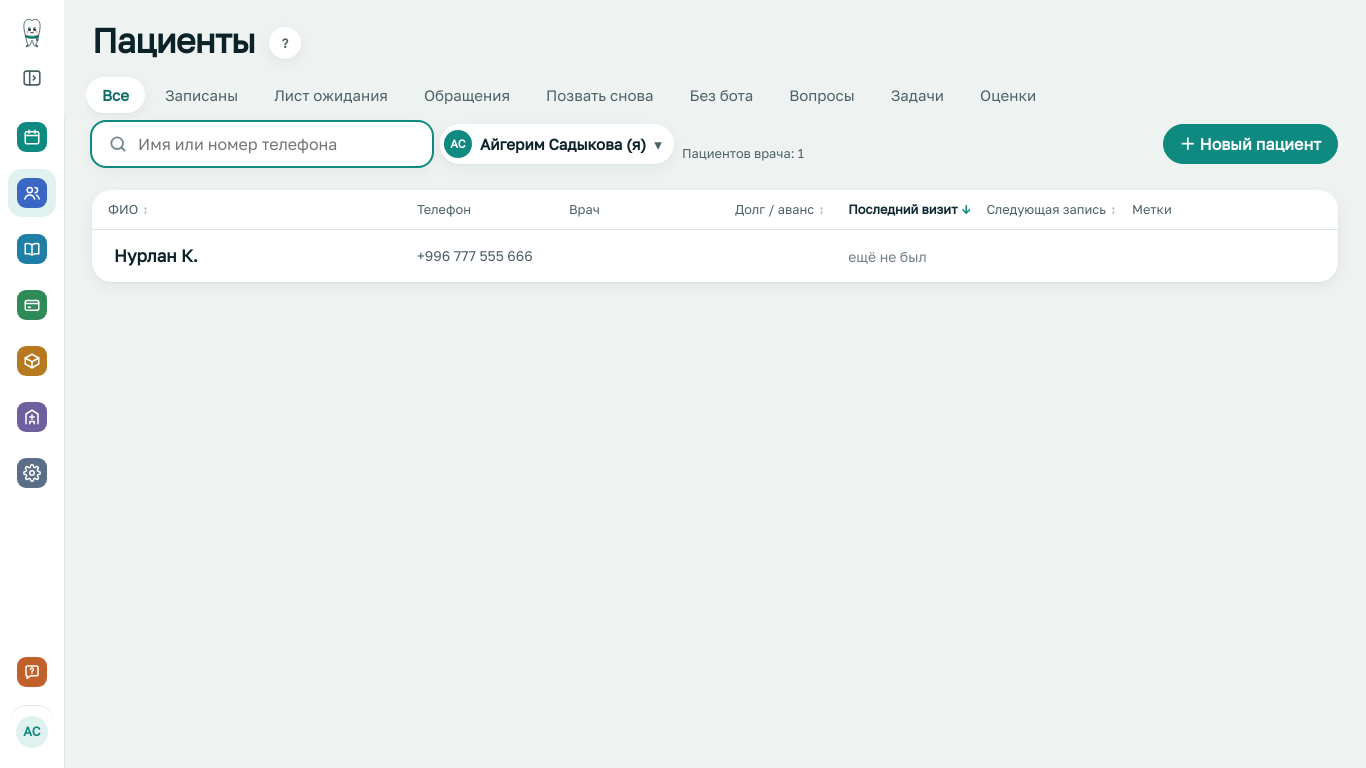
Scenario: новый пациент: одно пустое состояние «Ещё не был в клинике» и «Пригласить в бот», без плиток и пустых разделов
Click the button "Нурлан К.". click: coordinates (156, 256)
box: [114,243,198,269]
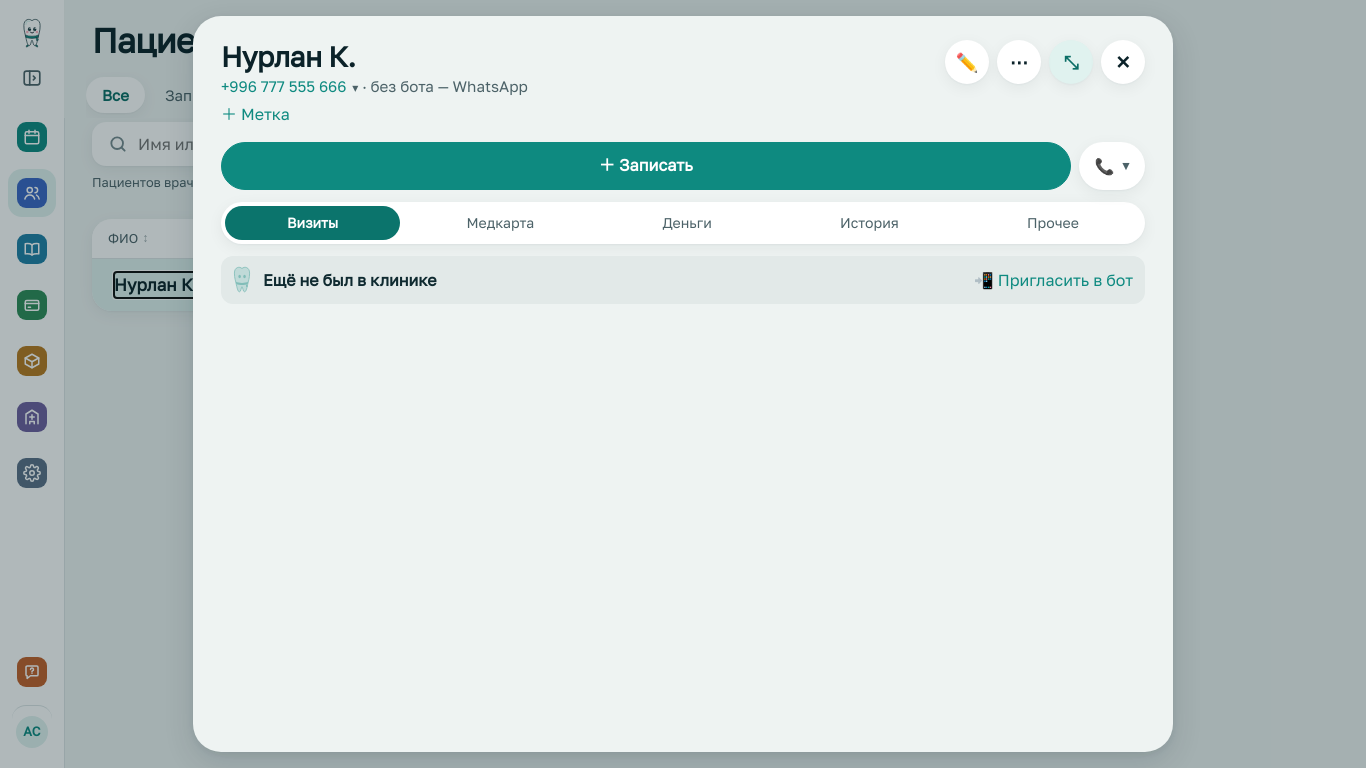
Now the text "Ещё не был в клинике" is shown, box [263,270,436,290]
Now the button "📲 Пригласить в бот" is shown, box [974,268,1133,292]
